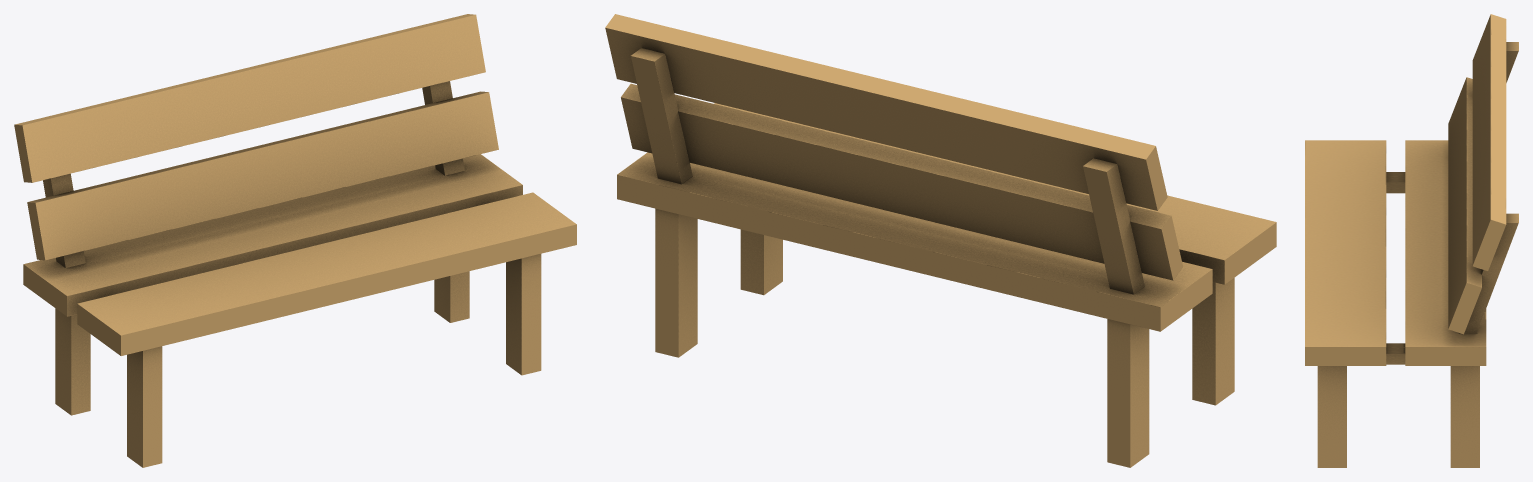
The model's file is chair1.fbx.
The picture shows the model from 3 angles, left to right: view 1: azimuth 30°, elevation 25°; view 2: azimuth 150°, elevation 25°; view 3: azimuth 270°, elevation 25°; orthographic projection. The views are drawn at different scales.
Parts seen in each view (by area): view 1: 对象005; view 2: 对象005; view 3: 对象005.
Part boxes in pixels (<box>): 对象005: <box>14,14,576,467</box>; 对象005: <box>605,14,1276,467</box>; 对象005: <box>1305,14,1518,467</box>.
Size of the model in its own units: 295 by 174 by 129.
1 material, 1 textured.
